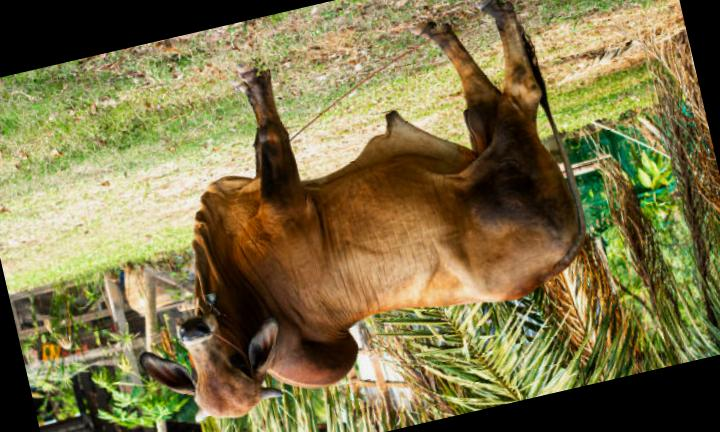Brahman: (141, 1, 586, 421)
